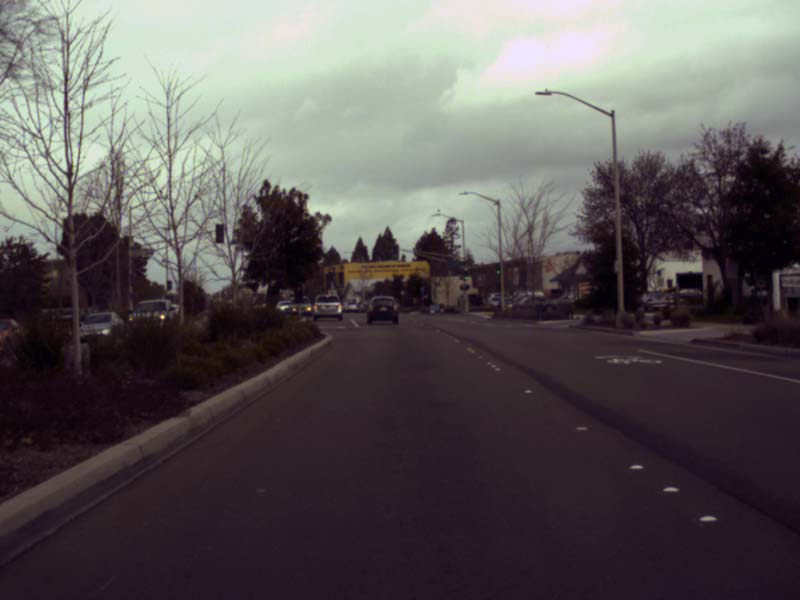Green: (393, 246, 397, 257), (495, 263, 499, 273), (464, 270, 467, 279)
Red: (295, 285, 302, 302), (329, 269, 333, 281)
